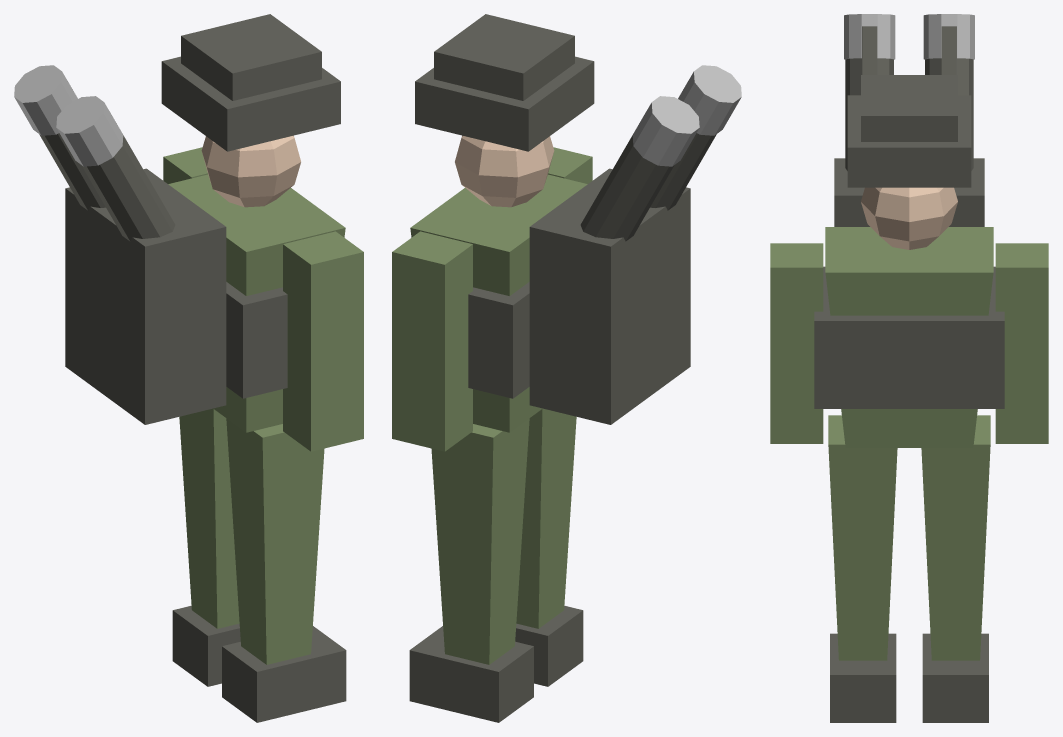
Rendered from unit_rocket.glb.
3 renders of one model, left to right at view 1: azimuth 30°, elevation 25°; view 2: azimuth 150°, elevation 25°; view 3: azimuth 270°, elevation 25°, orthographic. The views are drawn at different scales.
Parts seen in each view (by area): view 1: accent_upper_RocketTrooper, RocketTrooper, upper_RocketTrooper, accent_RocketTrooper, trim_upper_RocketTrooper, skin_upper_RocketTrooper; view 2: accent_upper_RocketTrooper, RocketTrooper, upper_RocketTrooper, accent_RocketTrooper, trim_upper_RocketTrooper, skin_upper_RocketTrooper; view 3: RocketTrooper, accent_upper_RocketTrooper, upper_RocketTrooper, accent_RocketTrooper, skin_upper_RocketTrooper, trim_upper_RocketTrooper.
Part boxes in pixels (bbox=[...]): accent_upper_RocketTrooper: bbox=[39, 14, 340, 424]; RocketTrooper: bbox=[168, 174, 345, 664]; upper_RocketTrooper: bbox=[163, 147, 363, 451]; accent_RocketTrooper: bbox=[172, 605, 346, 722]; trim_upper_RocketTrooper: bbox=[14, 65, 123, 166]; skin_upper_RocketTrooper: bbox=[201, 135, 300, 207]; accent_upper_RocketTrooper: bbox=[415, 14, 716, 424]; RocketTrooper: bbox=[410, 174, 587, 664]; upper_RocketTrooper: bbox=[392, 147, 592, 451]; accent_RocketTrooper: bbox=[409, 605, 583, 722]; trim_upper_RocketTrooper: bbox=[632, 65, 741, 166]; skin_upper_RocketTrooper: bbox=[455, 135, 554, 207]; RocketTrooper: bbox=[825, 227, 993, 660]; accent_upper_RocketTrooper: bbox=[814, 26, 1004, 408]; upper_RocketTrooper: bbox=[770, 243, 1048, 443]; accent_RocketTrooper: bbox=[830, 633, 988, 722]; skin_upper_RocketTrooper: bbox=[861, 187, 957, 249]; trim_upper_RocketTrooper: bbox=[844, 14, 974, 59].
Bounding box in the file's own units: 0.6672 × 1.51 × 0.63.
